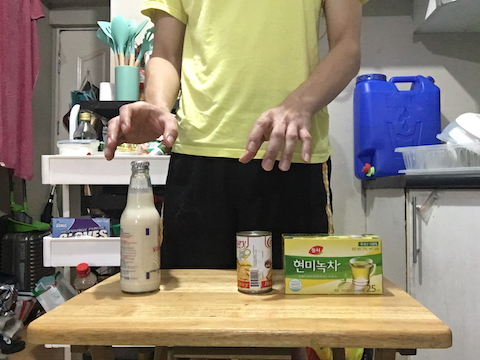bottle: (116, 159, 164, 297)
box: (282, 230, 386, 299)
can: (234, 229, 276, 296)
